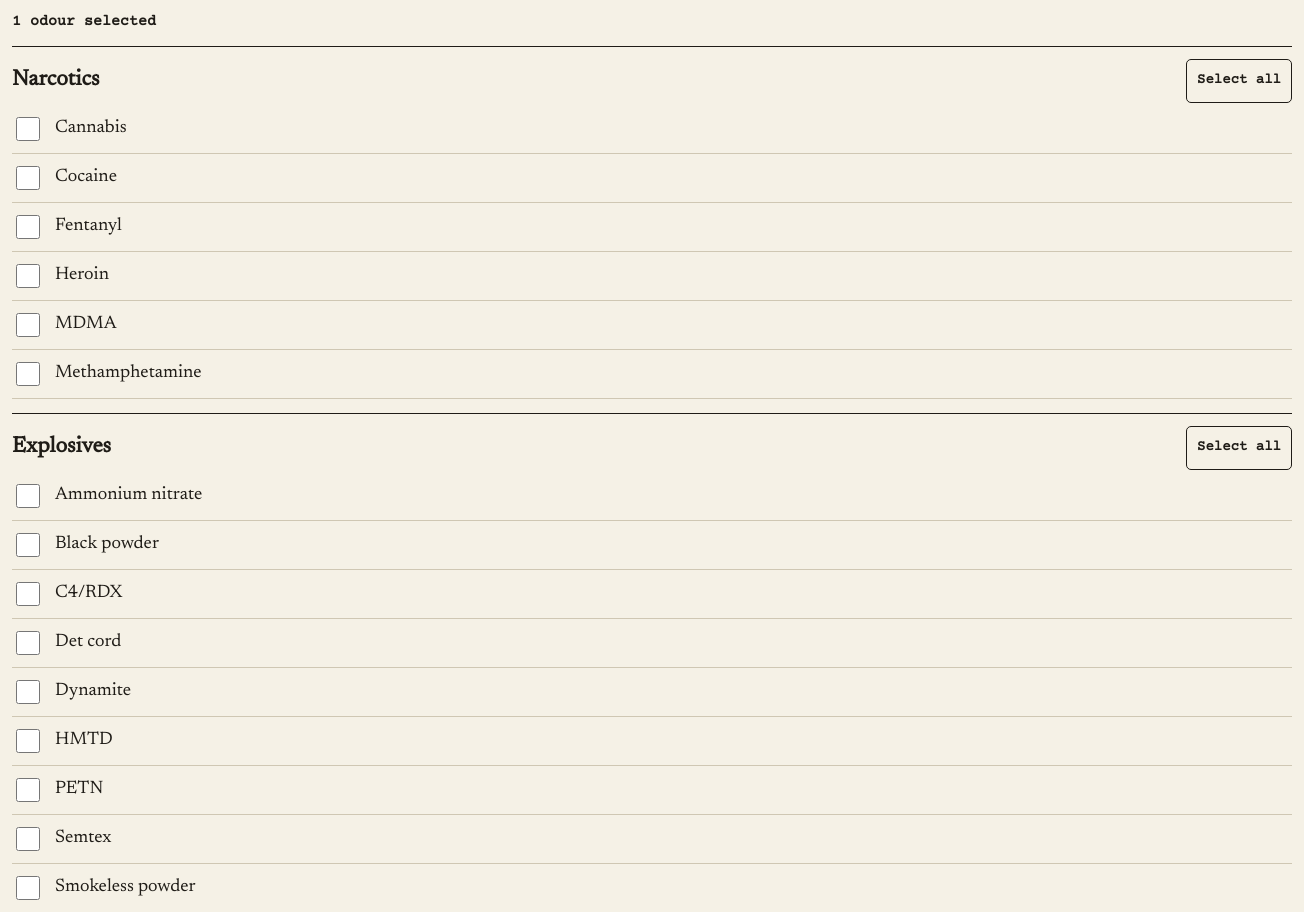
Test: OdourPicker › "Select all" ticks a whole category, leaves the others alone, and a second tap clears just that category
Click the button with aria-label "Select all Narcotics" at point(1239, 80), box [1186,58,1292,102]
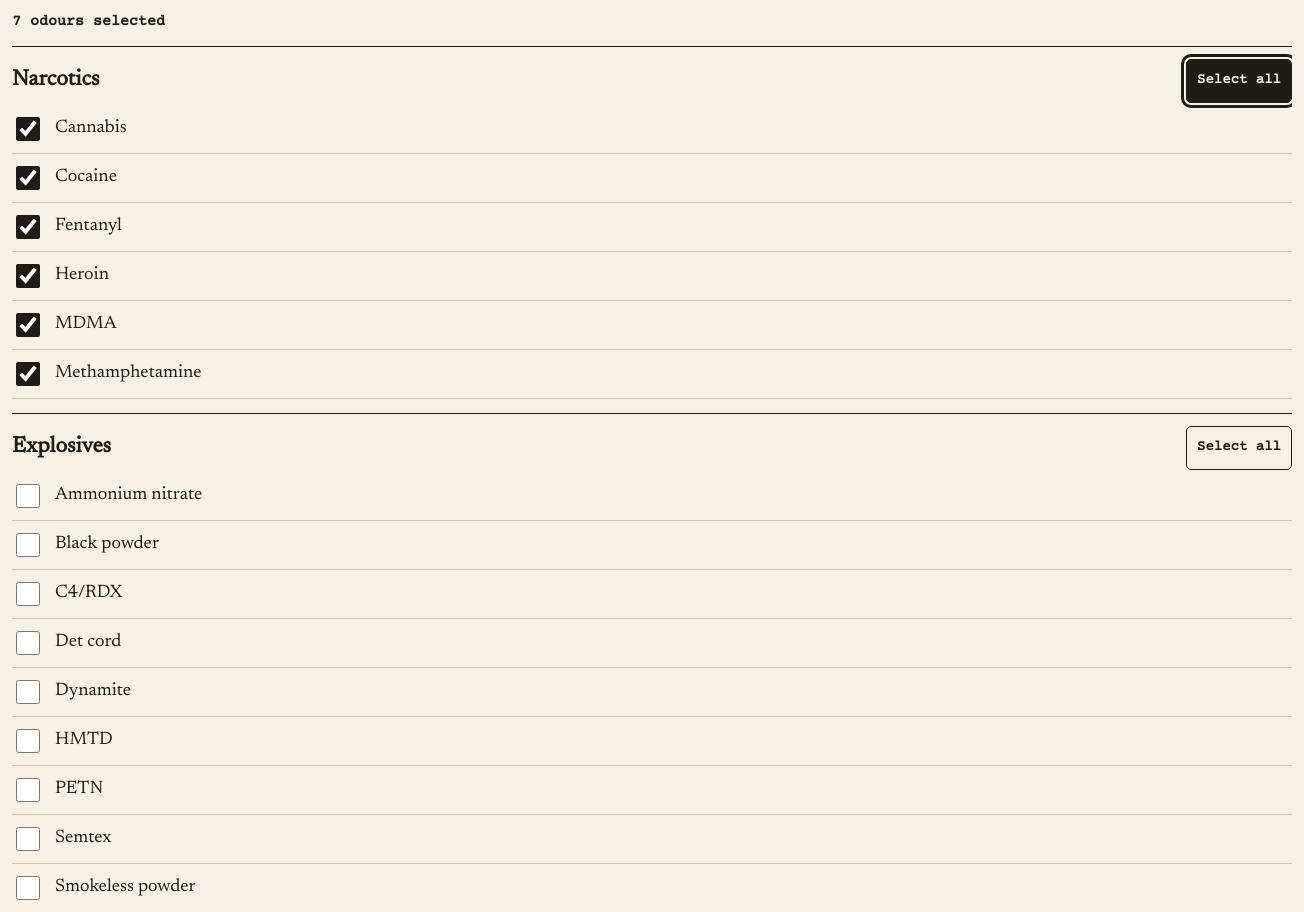
Expected: the checkbox labelled "Cannabis" is checked, [16,116,40,140]
Expected: the checkbox labelled "Cocaine" is checked, [16,166,40,190]
Expected: the checkbox labelled "Fentanyl" is checked, [16,214,40,238]
Click the button with aria-label "Select all Narcotics" at point(1239, 80), box [1186,58,1292,102]
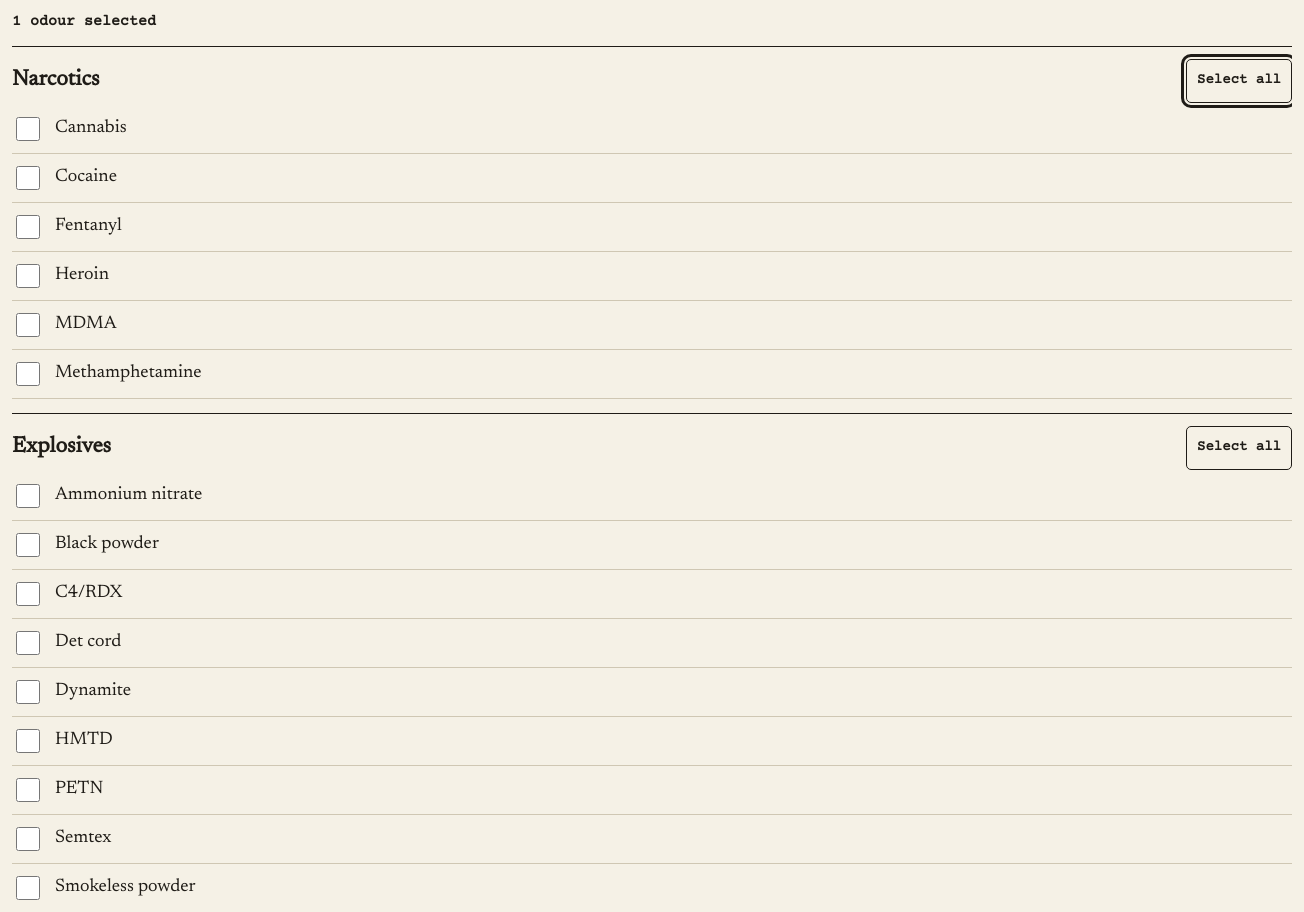
Expected: the checkbox labelled "Cannabis" is not checked, [16,116,40,140]
Expected: the checkbox labelled "Cocaine" is not checked, [16,166,40,190]
Expected: the checkbox labelled "Fentanyl" is not checked, [16,214,40,238]
